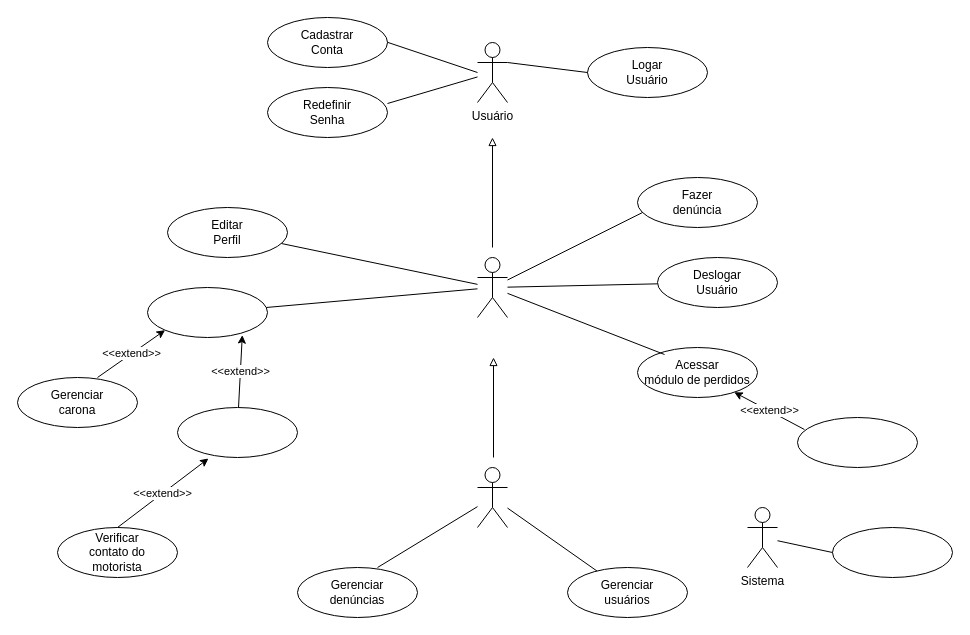
The diagram is 970 pixels wide and 635 high, and some of its shapes have lost their labels. Each missing label, with the box of its shape:
Acessar módulo de carona: (146, 286, 268, 338)
Administrador: (476, 466, 508, 528)
Buscar carona: (176, 406, 298, 458)
Gerenciar itens perdidos: (796, 416, 918, 468)
Notificar usuário: (832, 526, 952, 578)
Usuário Logado: (476, 256, 508, 318)
